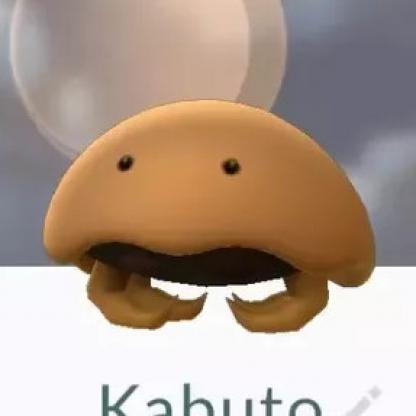Kabuto: (44, 108, 377, 349)
